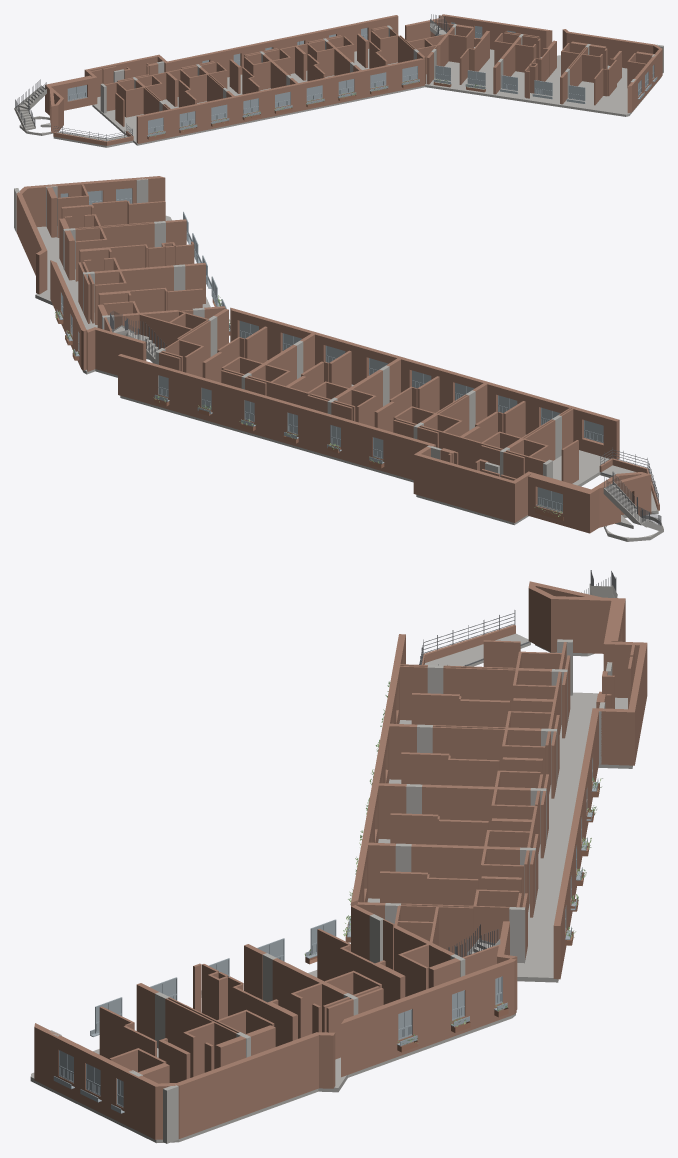
The model's file is revit_nivel_4.glb.
3 views of the same model, one above another, from view 1: azimuth 30°, elevation 25°; view 2: azimuth 150°, elevation 25°; view 3: azimuth 270°, elevation 25° (orthographic). The views are drawn at different scales.
Visible parts, largest first — view 1: Revit_PISO 5; view 2: Revit_PISO 5; view 3: Revit_PISO 5.
Boxes of the visible parts, x1=… form: Revit_PISO 5: x1=14, y1=14, x2=663, y2=147; Revit_PISO 5: x1=14, y1=176, x2=663, y2=541; Revit_PISO 5: x1=30, y1=570, x2=647, y2=1143.
Size of the model in its own units: 63.55 by 4.46 by 31.48.
